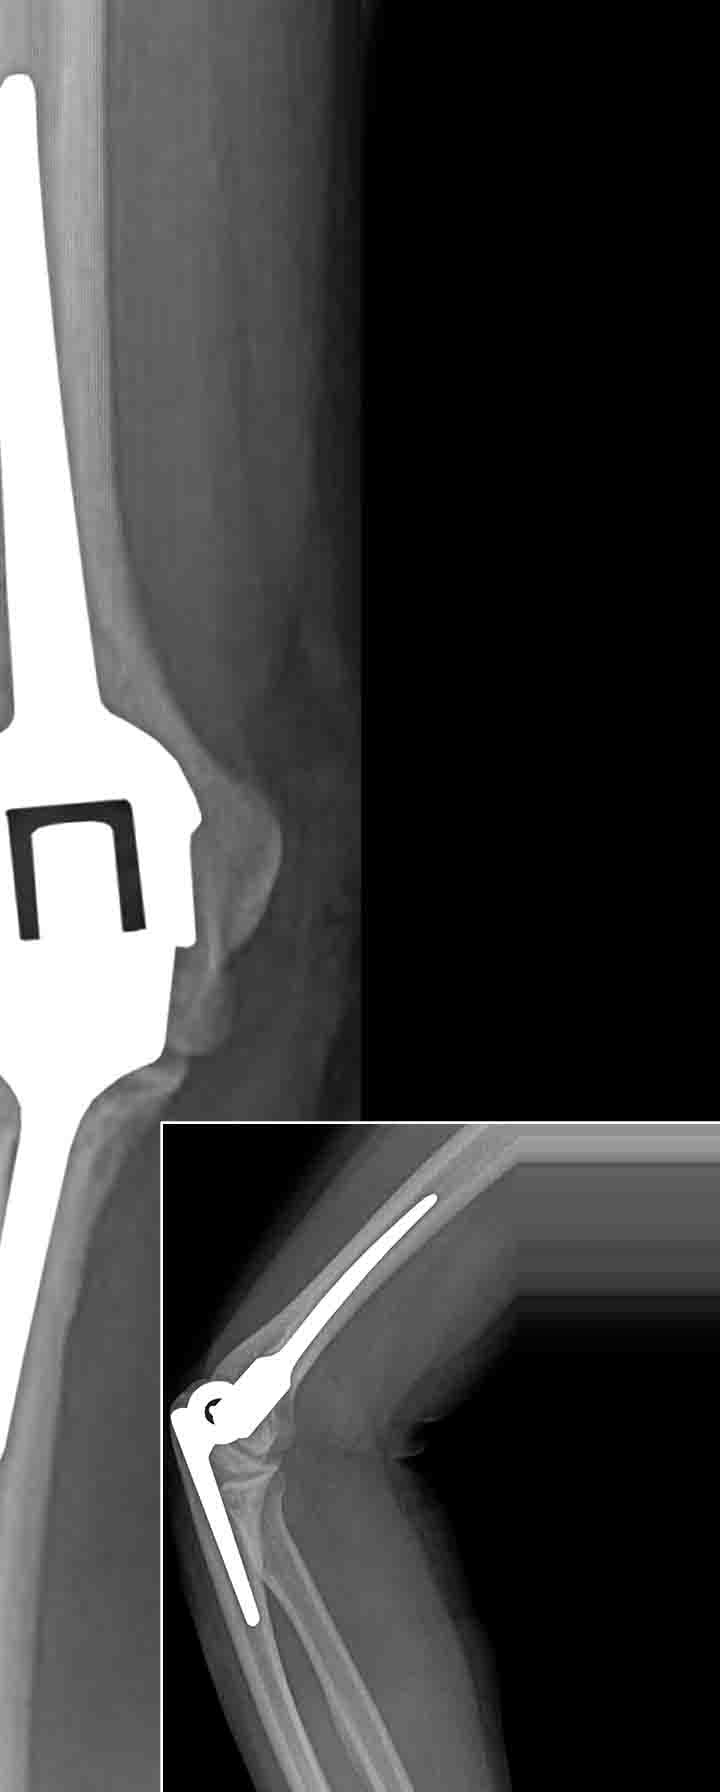Elbow - Osteonics - Stryker: (1, 57, 211, 1336), (163, 1145, 461, 1663)
